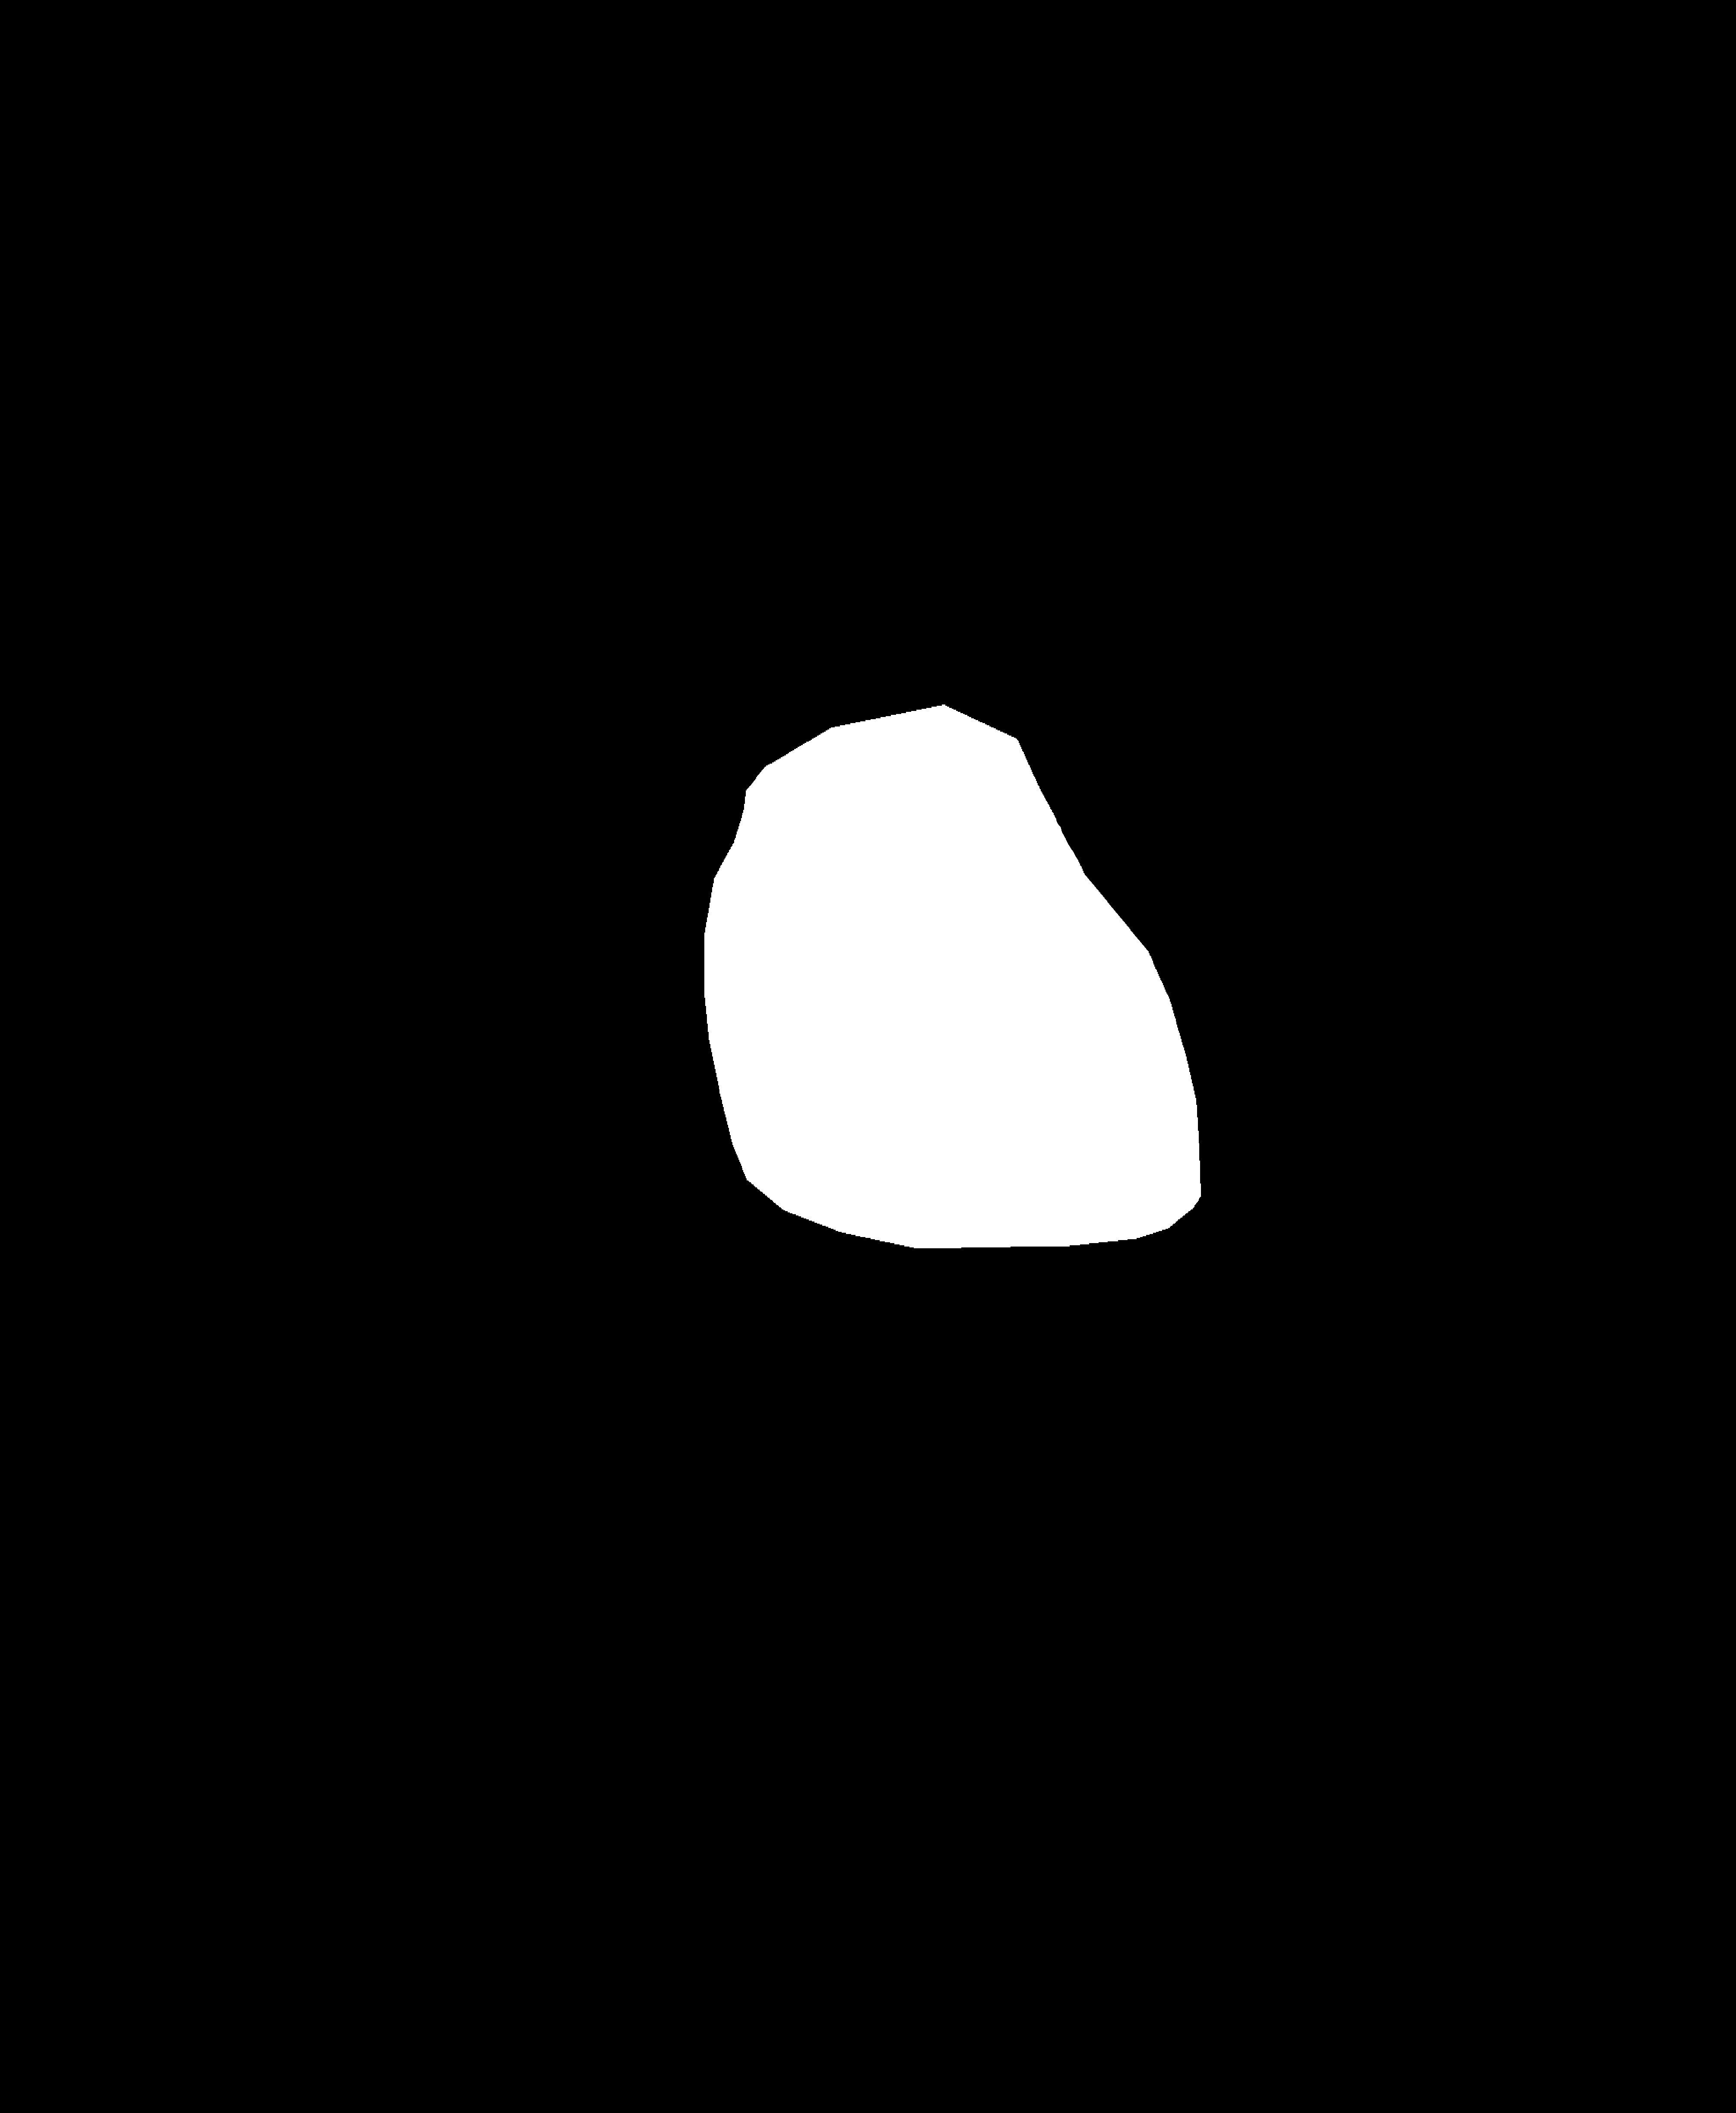heart: (685, 839, 1199, 1243)
left_lung: (216, 204, 760, 1550)
right_lung: (865, 183, 1597, 1409)
